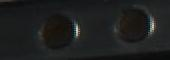joints: (111, 3, 156, 45), (34, 10, 80, 51)
